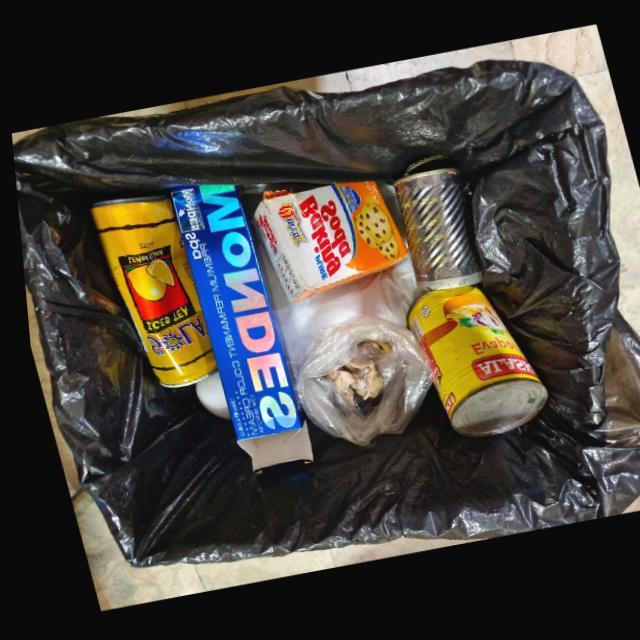biowaste: (318, 339, 385, 407), (188, 372, 223, 420)
metal: (85, 190, 211, 388), (400, 285, 540, 438), (389, 154, 477, 292)
paper: (167, 182, 305, 476), (249, 181, 403, 303)
plastic: (289, 314, 428, 446)
